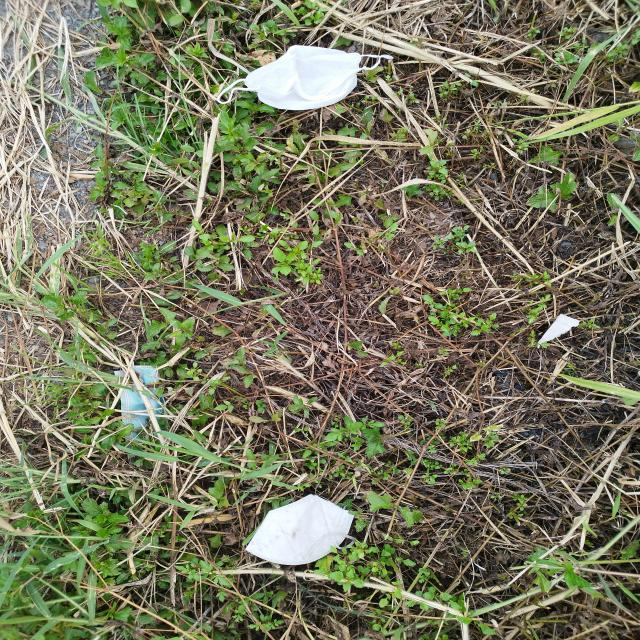mask: (217, 45, 396, 111), (244, 494, 355, 566), (115, 369, 160, 444)
